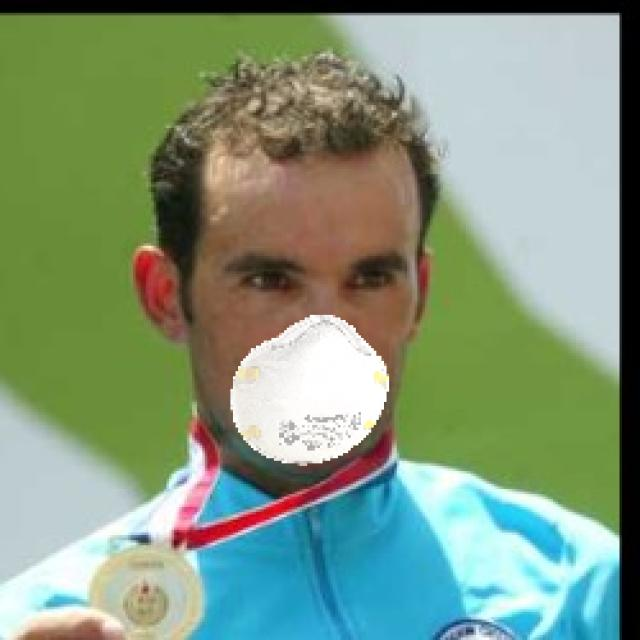mask: (210, 299, 405, 482)
